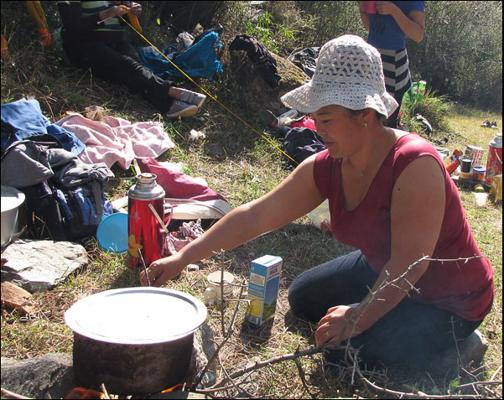person: (141, 37, 494, 394)
